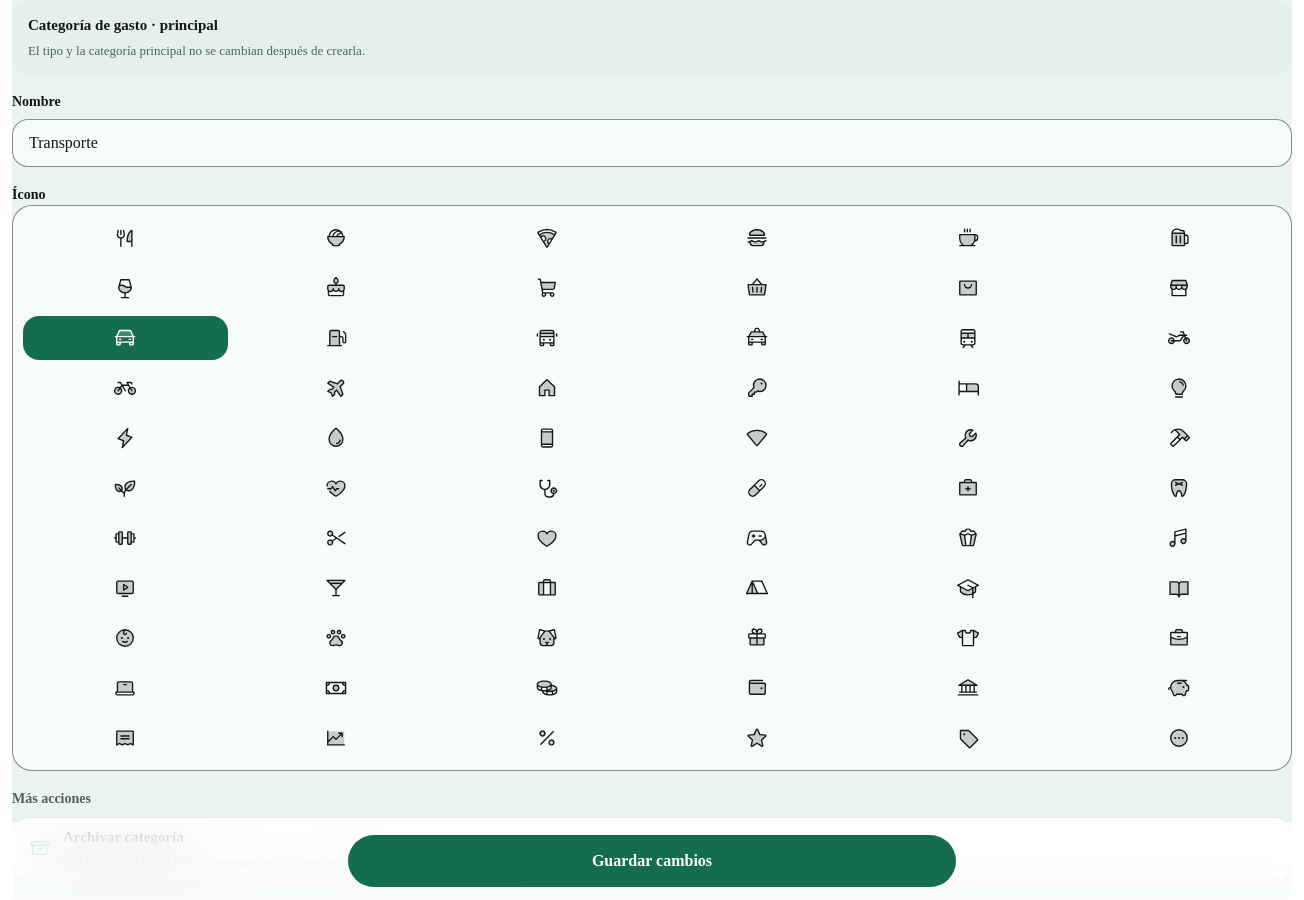
other failures › marks the name with a 422
Replace the text in the field labelled "Nombre" with "Movilidad" at point(652, 143), box [12, 119, 1292, 167]
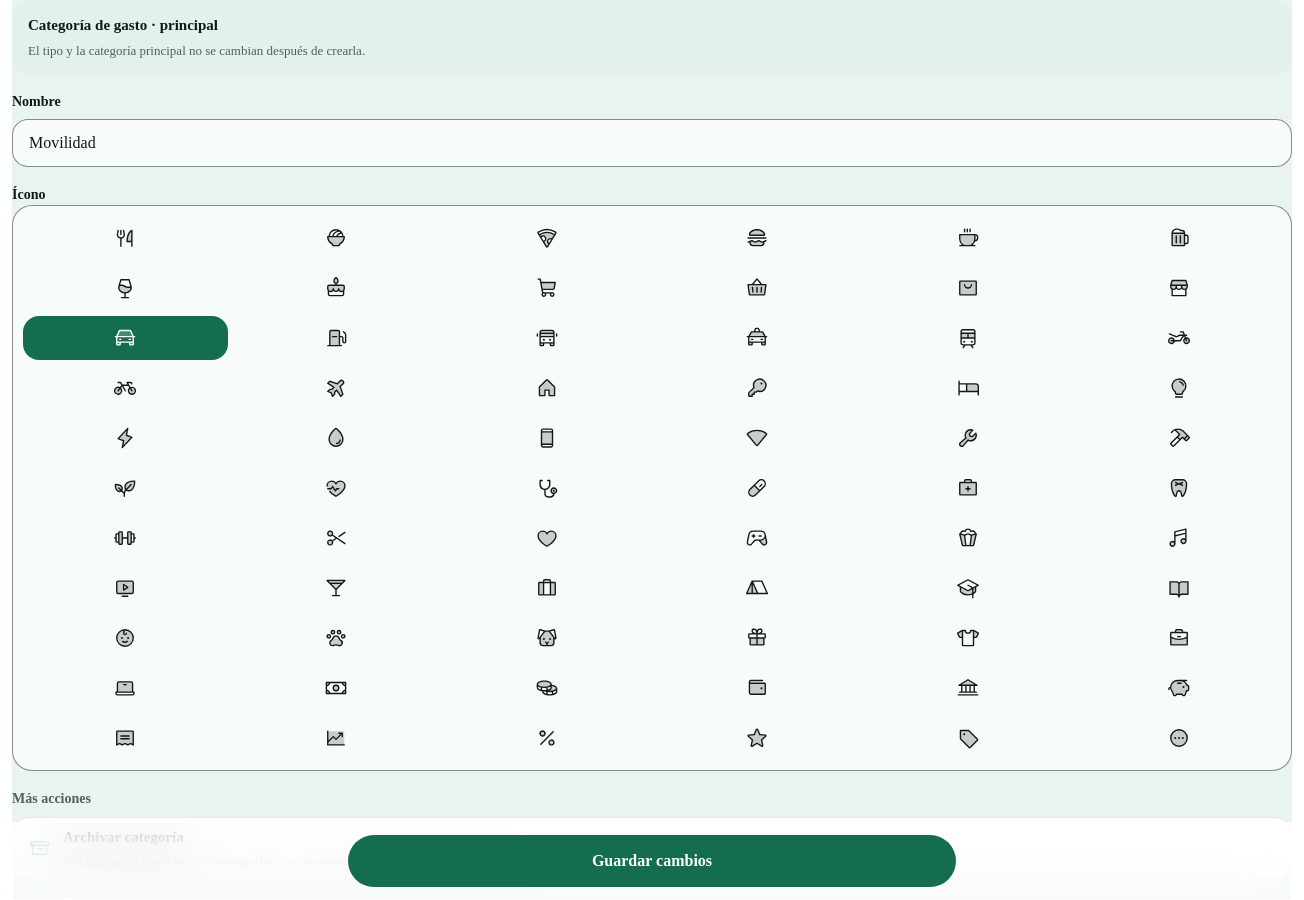
Click the button "Guardar cambios".
click(652, 861)  # box [348, 835, 956, 887]
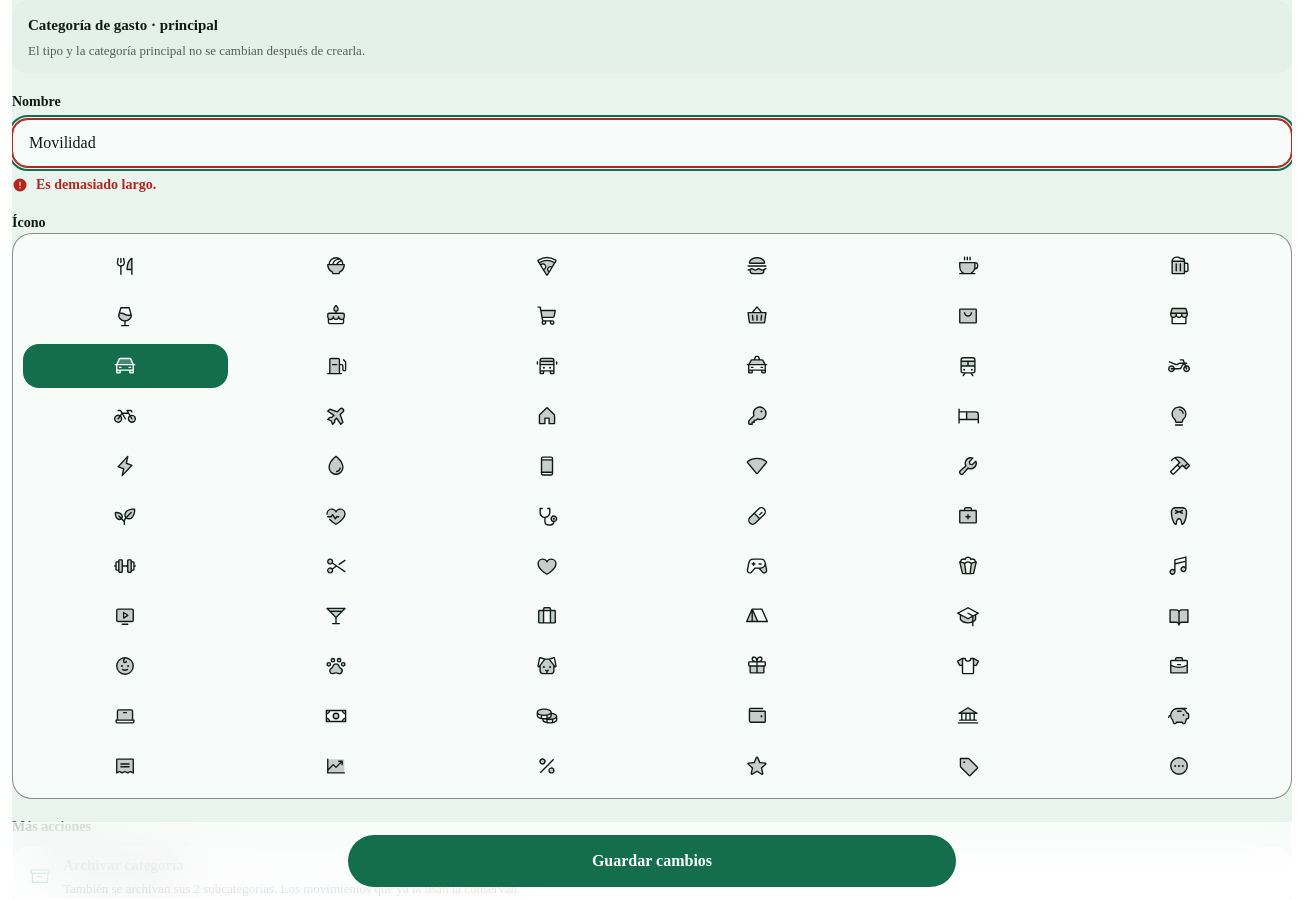
Check: the text "Es demasiado largo." is shown, box [36, 175, 156, 195]
